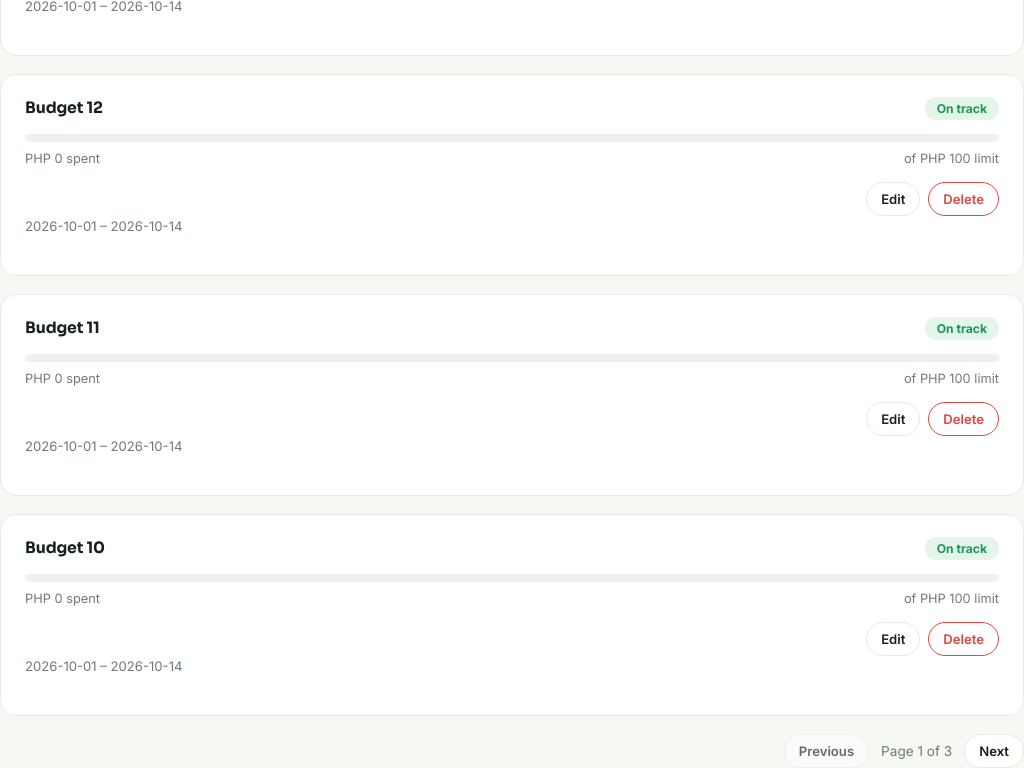
Test case: pages budget cards, searches older records, and preserves full financial totals
This screenshot has width=1024, height=768.
(page scrolled)
Click the button "Next": coordinates (994, 751) [964,734,1023,767]
(page scrolled)
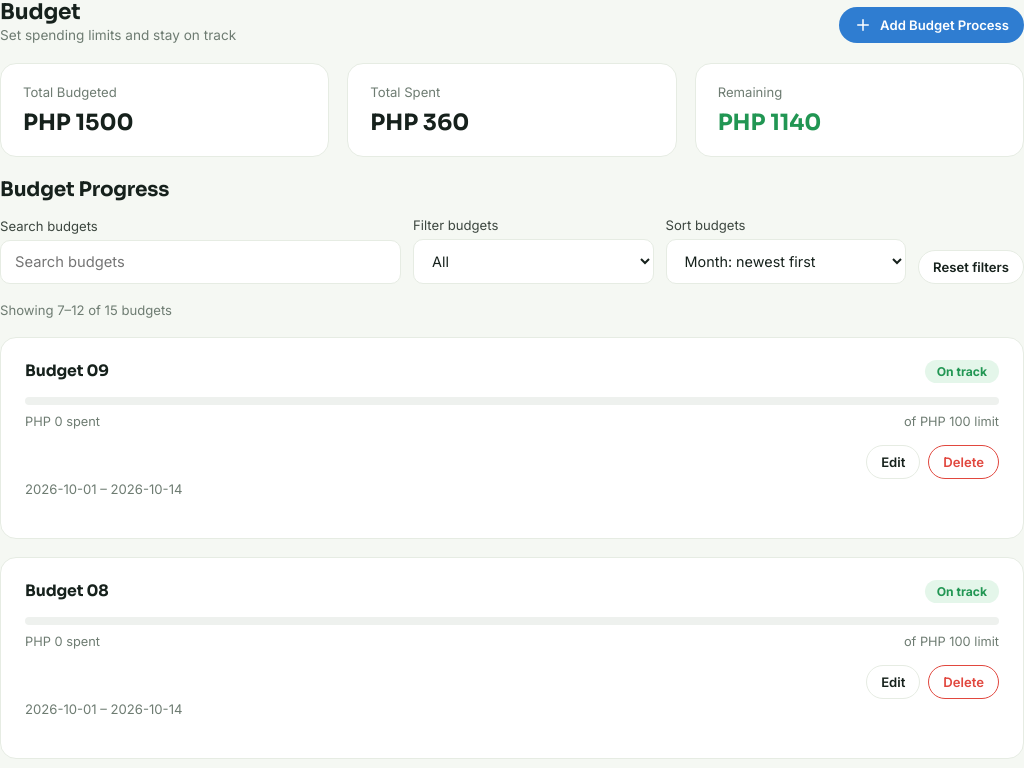
In the search field labelled "Search budgets": coordinates (200, 262) [0,240,401,284], type "Budget 02"
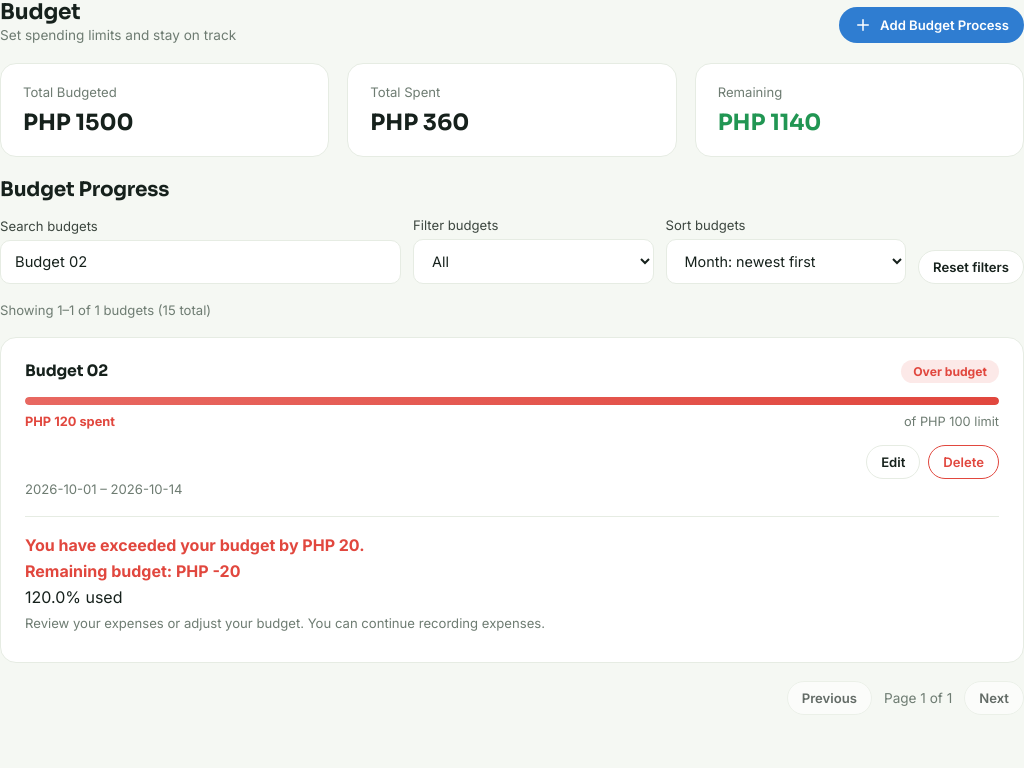
expect the text "Total Budgeted" shows "PHP 1500": met, box [23,108,134,136]
expect the text "Page 1 of 1" is shown: met, box [884,690,952,706]
expect the number of elements with class "budget-card" is 1: met, box [0,337,1023,663]
Click the button with aria-label "Edit Budget 02 budget": coordinates (893, 462) [866,445,920,479]
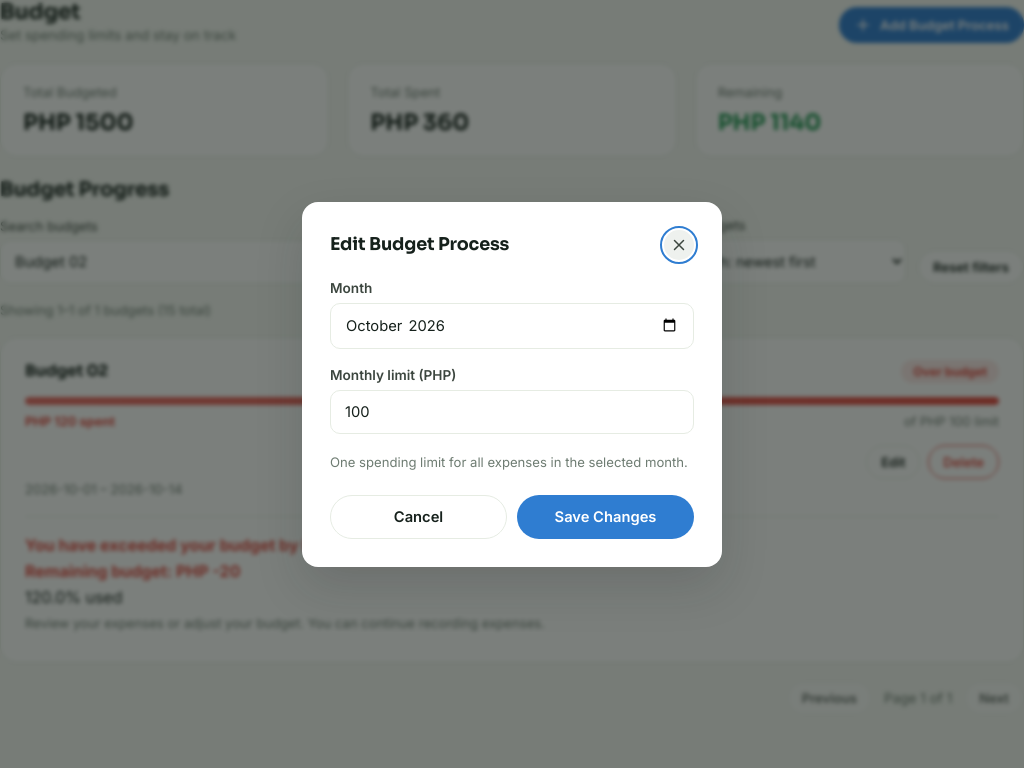
expect the number field labelled "Monthly limit (PHP)" holds "100": met, box [330,390,694,434]
